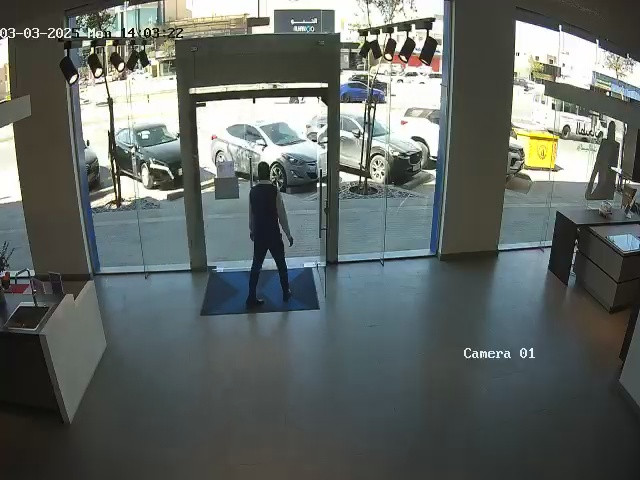employee: (245, 161, 294, 306)
